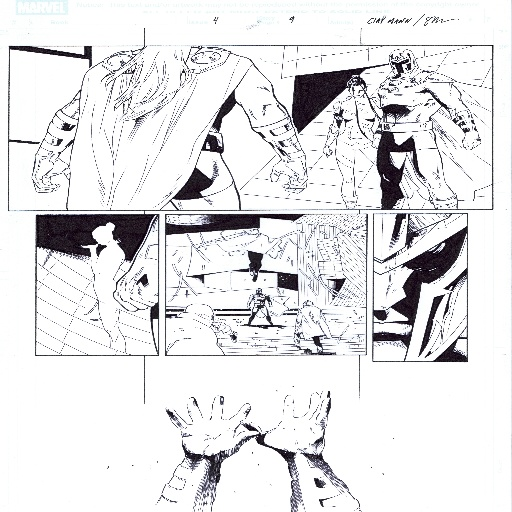hand: (167, 391, 272, 465), (235, 388, 328, 457), (110, 256, 157, 311), (28, 153, 70, 195), (265, 154, 307, 193), (461, 134, 480, 151), (79, 240, 100, 250), (321, 144, 333, 157), (370, 135, 380, 150)
